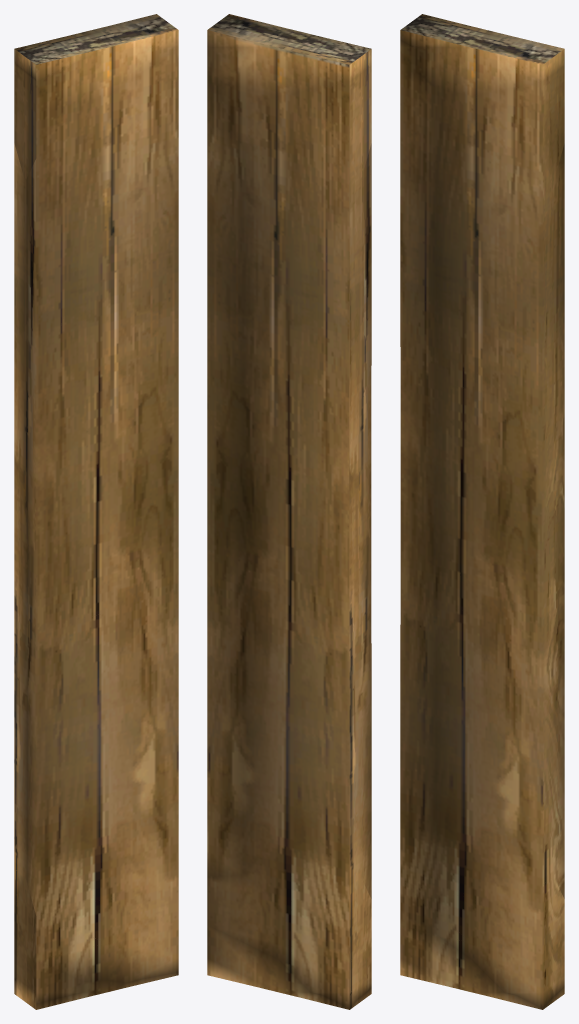
Rendered from plank02.obj.
3 renders of one model, left to right at view 1: azimuth 30°, elevation 25°; view 2: azimuth 150°, elevation 25°; view 3: azimuth 330°, elevation 25°, orthographic.
Parts seen in each view (by area): view 1: plank02; view 2: plank02; view 3: plank02.
Part boxes in pixels (x1=…): plank02: x1=14, y1=14, x2=178, y2=1009; plank02: x1=207, y1=14, x2=371, y2=1009; plank02: x1=400, y1=14, x2=564, y2=1009.
Bounding box in the file's own units: 37.06 × 235 × 9.96.
Materials: 1 (1 with a texture image).
